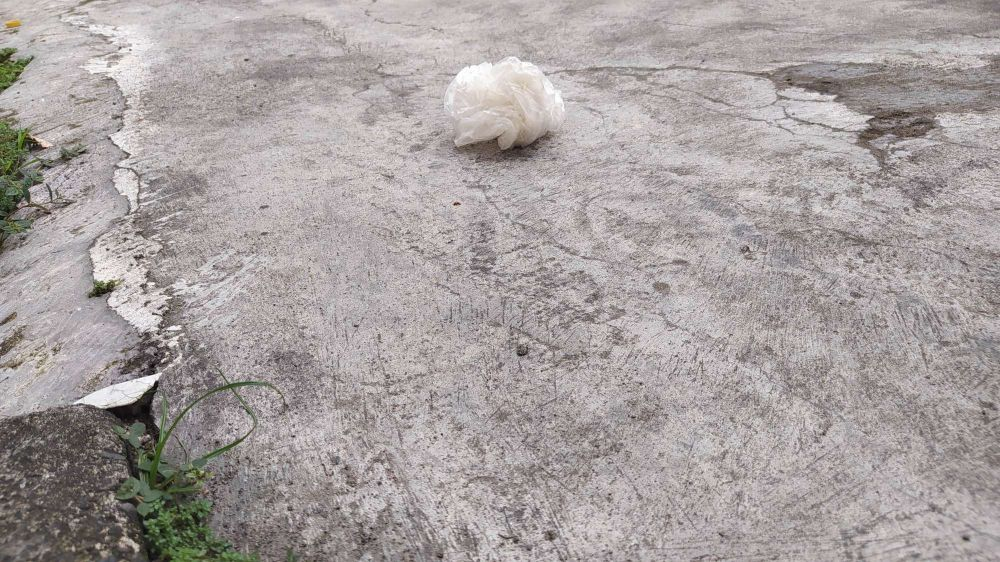plastik: (428, 44, 568, 170)
